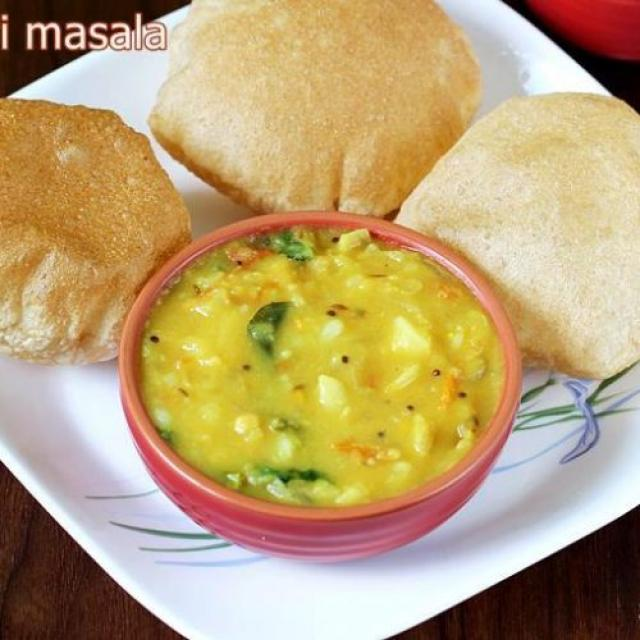poori: (156, 0, 488, 221), (402, 83, 640, 385), (0, 83, 193, 369)
